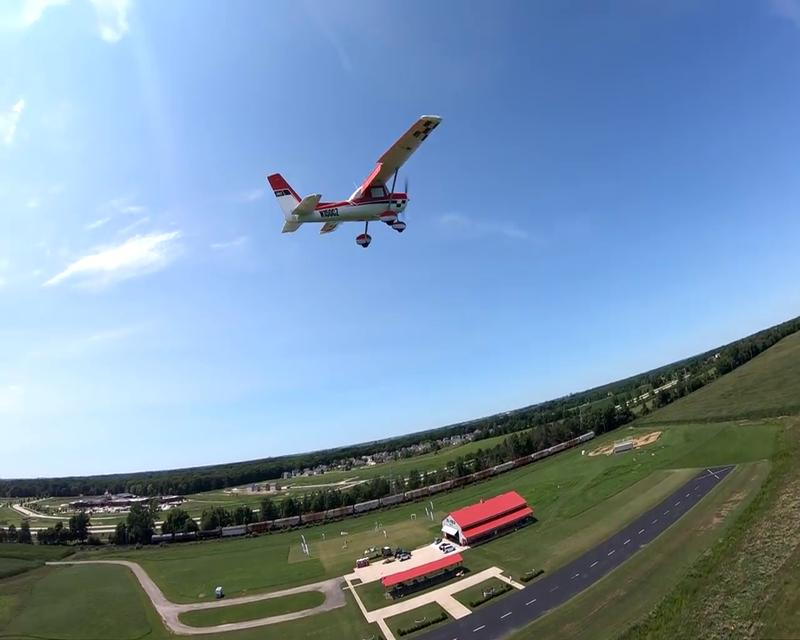UAV: (266, 115, 443, 249)
